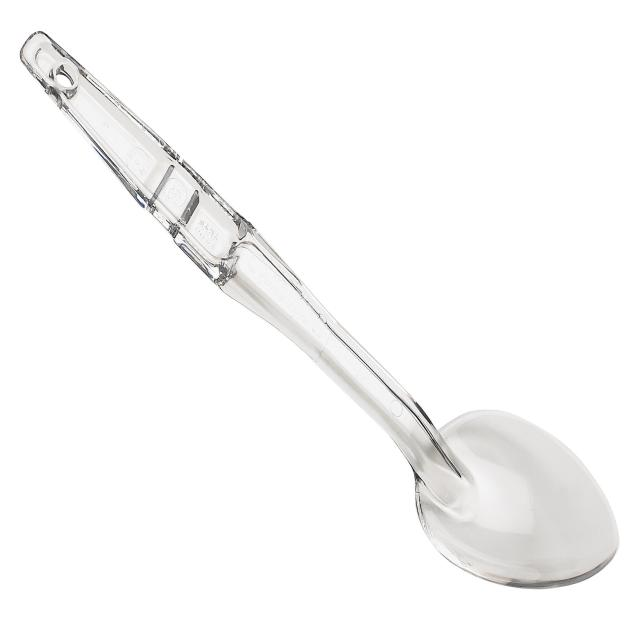spoon: (18, 21, 624, 596)
